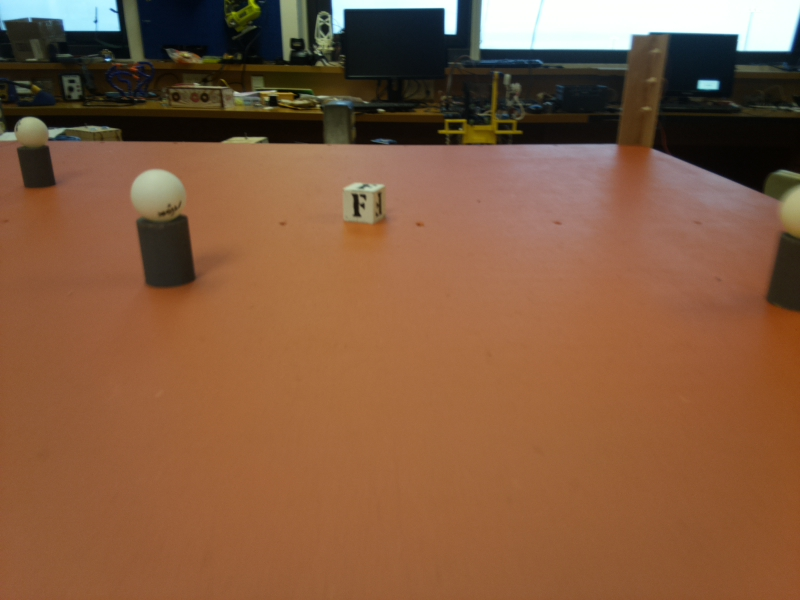blockF: (343, 177, 384, 227)
corner: (618, 33, 672, 144)
obstacle: (135, 163, 193, 290), (772, 186, 800, 303), (15, 116, 53, 192)
